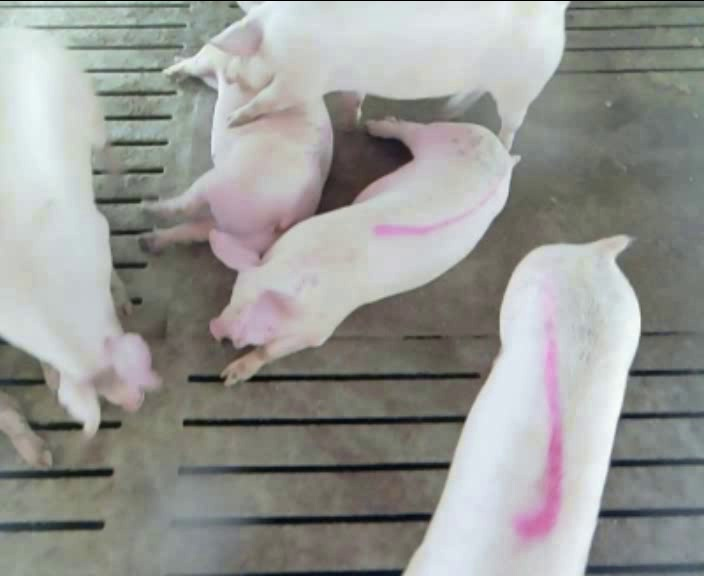pig: (210, 119, 517, 384), (406, 237, 639, 573), (207, 2, 565, 144), (140, 44, 331, 270)
